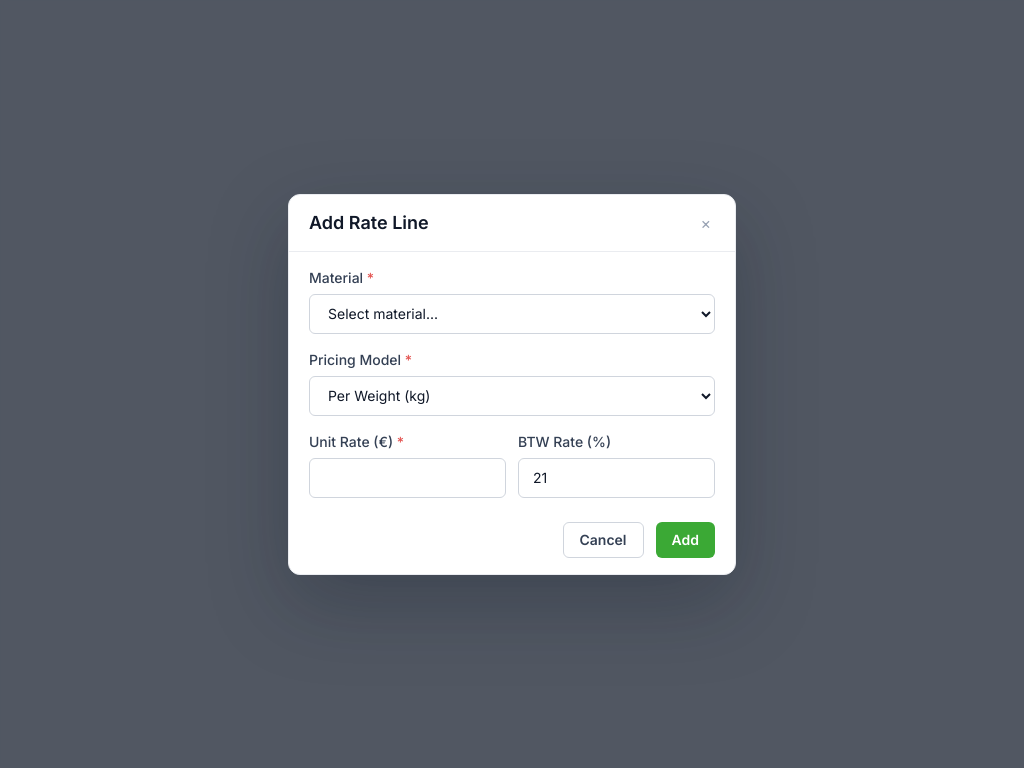
Test: RateLineFormModal › renders "Add Both" button when WEIGHT_AND_QUANTITY is selected in create mode
Change pricing model to WEIGHT_AND_QUANTITY
Select "Per Weight and Quantity" in the dropdown showing "Per Weight (kg)" below "Pricing Model" at (512, 396), box top-left (309, 376), bottom-right (715, 416)
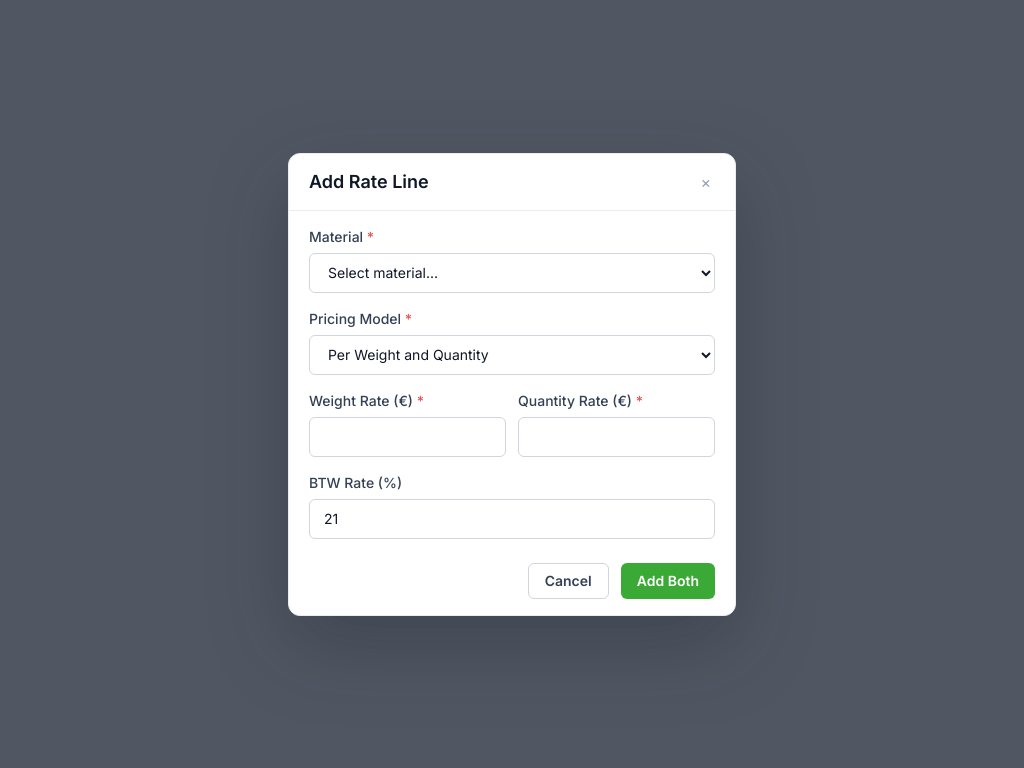
Expected: the button "Add Both" is shown, top-left (621, 562), bottom-right (715, 598)
